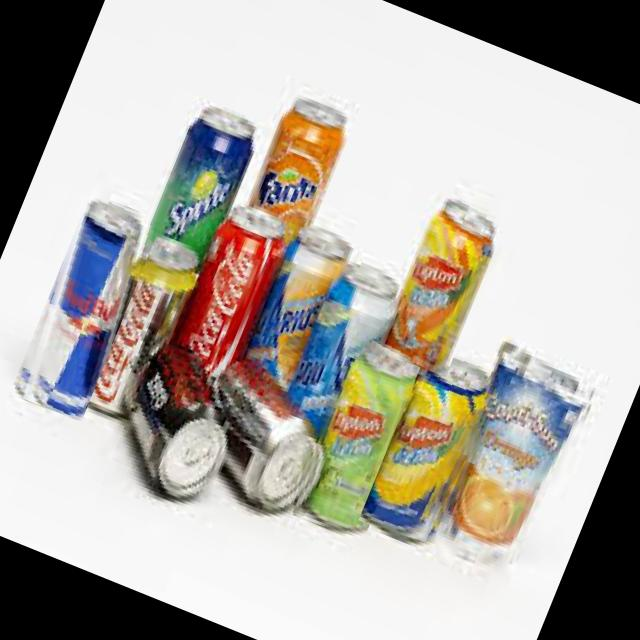Cans: (2, 186, 162, 422), (284, 332, 435, 543), (358, 343, 508, 552), (374, 184, 511, 378)
